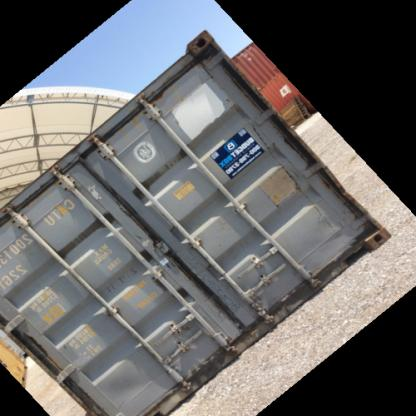Damage: (252, 124, 306, 208), (22, 335, 68, 374), (30, 288, 66, 328), (328, 178, 364, 217), (99, 260, 145, 290), (150, 143, 183, 183), (188, 34, 218, 64)
